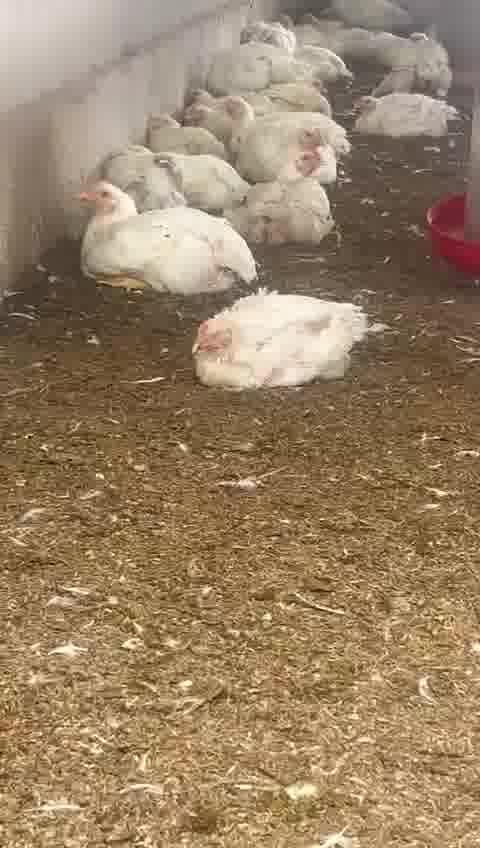AbNormal: (191, 286, 371, 396), (106, 142, 210, 208), (140, 106, 221, 167), (169, 77, 218, 123)
Normal: (70, 183, 263, 293), (243, 152, 337, 244), (340, 82, 460, 146), (215, 97, 352, 153), (243, 124, 345, 174)
